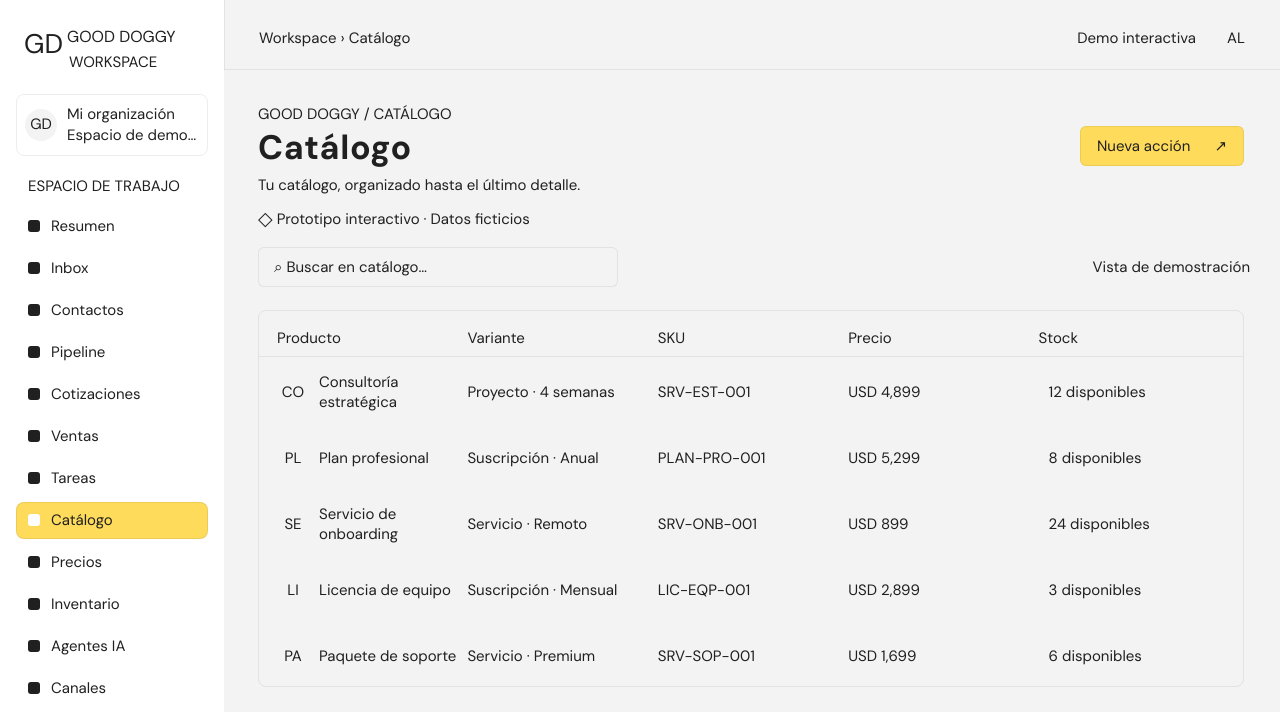
Scenario: Workspace de la demo › la acción genérica solo informa: no crea registros
What coordinates should you click on to do the following:
click the button "Nueva acción ↗"
I would click on:
 (1162, 146)
Its box is [1080,126,1244,166].
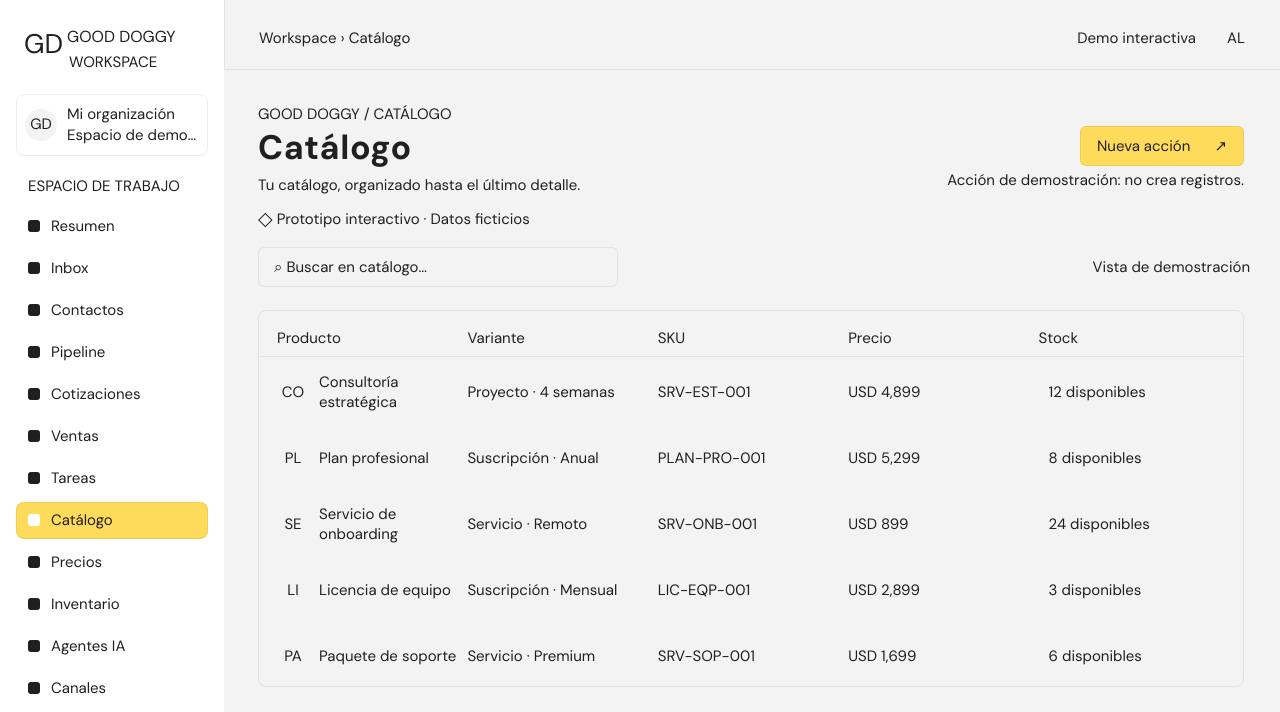
expect the text "Acción de demostración: no crea registros." is shown: met, box [947,170,1244,190]
